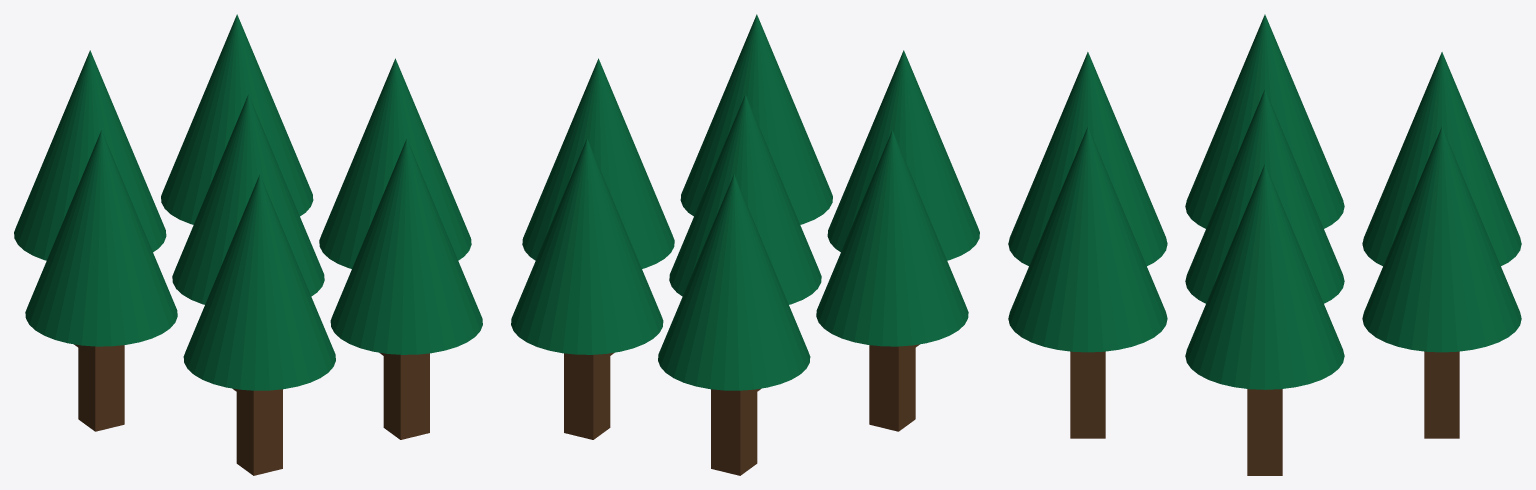
File: treesPine.dae
The picture shows the model from 3 angles, left to right: view 1: azimuth 30°, elevation 25°; view 2: azimuth 150°, elevation 25°; view 3: azimuth 270°, elevation 25°; orthographic projection. The views are drawn at different scales.
Visible parts, largest first — view 1: Stump; view 2: Stump; view 3: Stump.
Boxes of the visible parts, x1=… form: Stump: x1=14, y1=14, x2=482, y2=475; Stump: x1=511, y1=14, x2=979, y2=475; Stump: x1=1008, y1=14, x2=1521, y2=475.
Size of the model in its own units: 2.9 by 2.9 by 1.9.
